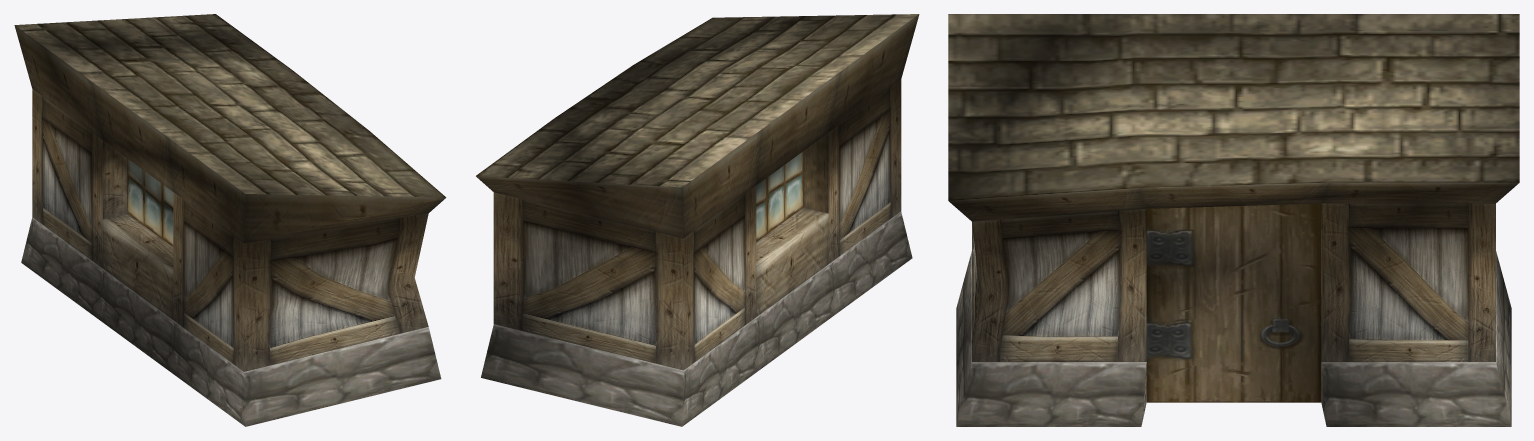
File: westfallshed.glb
3 views of the same model, side by side, from view 1: azimuth 30°, elevation 25°; view 2: azimuth 150°, elevation 25°; view 3: azimuth 270°, elevation 25° (orthographic). The views are drawn at different scales.
Bounding box in the file's own units: 4.17 × 4.67 × 8.27.
5 materials, 5 textured.
